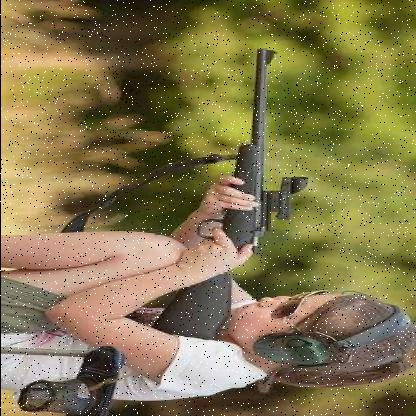rifle: (153, 30, 315, 348)
